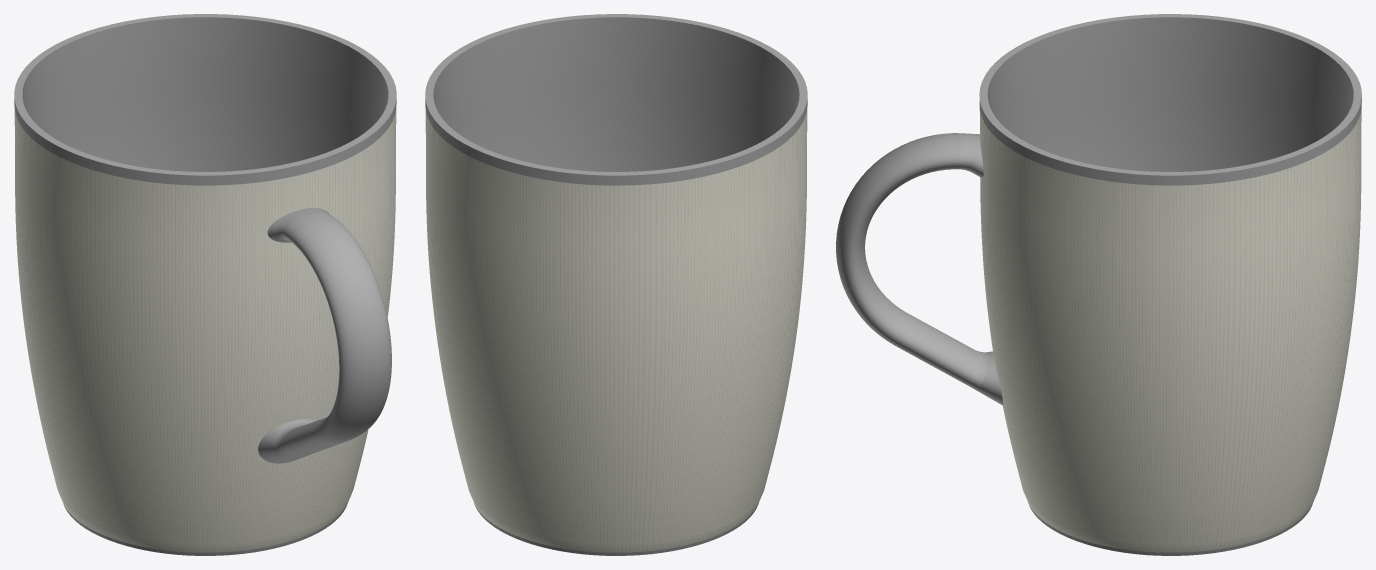
The model's file is Mug.fbx.
The picture shows the model from 3 angles, left to right: view 1: azimuth 30°, elevation 25°; view 2: azimuth 150°, elevation 25°; view 3: azimuth 270°, elevation 25°; orthographic projection.
Parts seen in each view (by area): view 1: pasted__pCylinder2, pCylinder4; view 2: pasted__pCylinder2; view 3: pasted__pCylinder2, pCylinder4.
Boxes of the visible parts, box(x1,y1,x2,y2) form: pasted__pCylinder2: box(14, 14, 396, 555); pCylinder4: box(258, 208, 391, 463); pasted__pCylinder2: box(425, 14, 807, 555); pasted__pCylinder2: box(979, 14, 1361, 555); pCylinder4: box(836, 133, 1003, 405).
Bounding box in the file's own units: 1.68 × 1.95 × 2.31.
3 materials, 1 textured.
